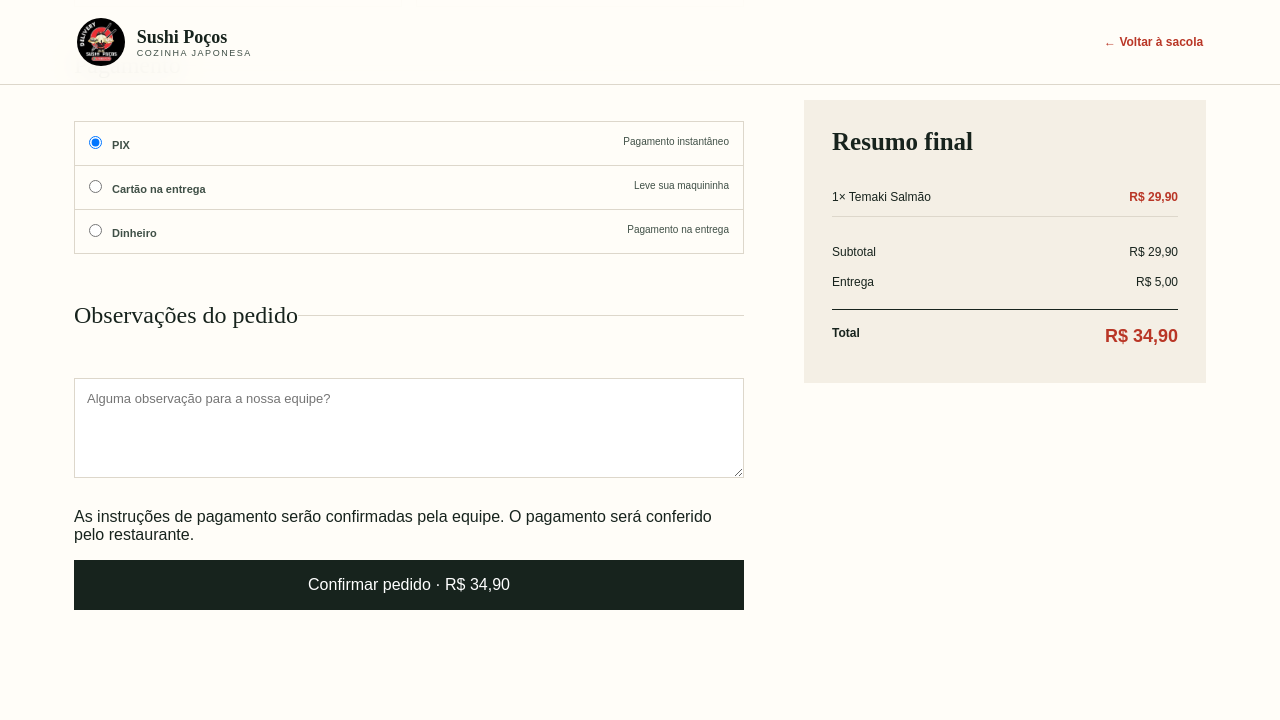
Scenario: CheckoutPage › requires customer and delivery information
(page scrolled)
Click the button "Confirmar pedido · R$ 34,90": (409, 584) [74,560,744,610]
(page scrolled)
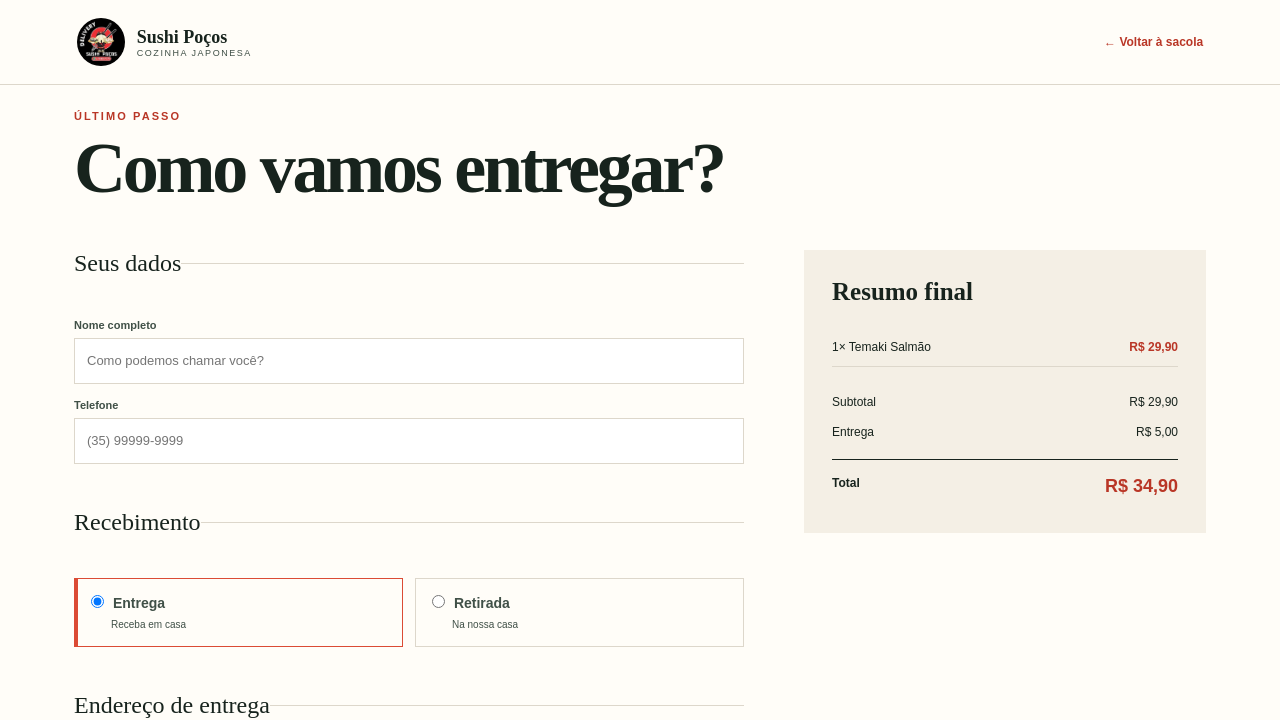
In the field labelled "Nome completo": (409, 360) [74,338,744,384], type "Ana Sushi"
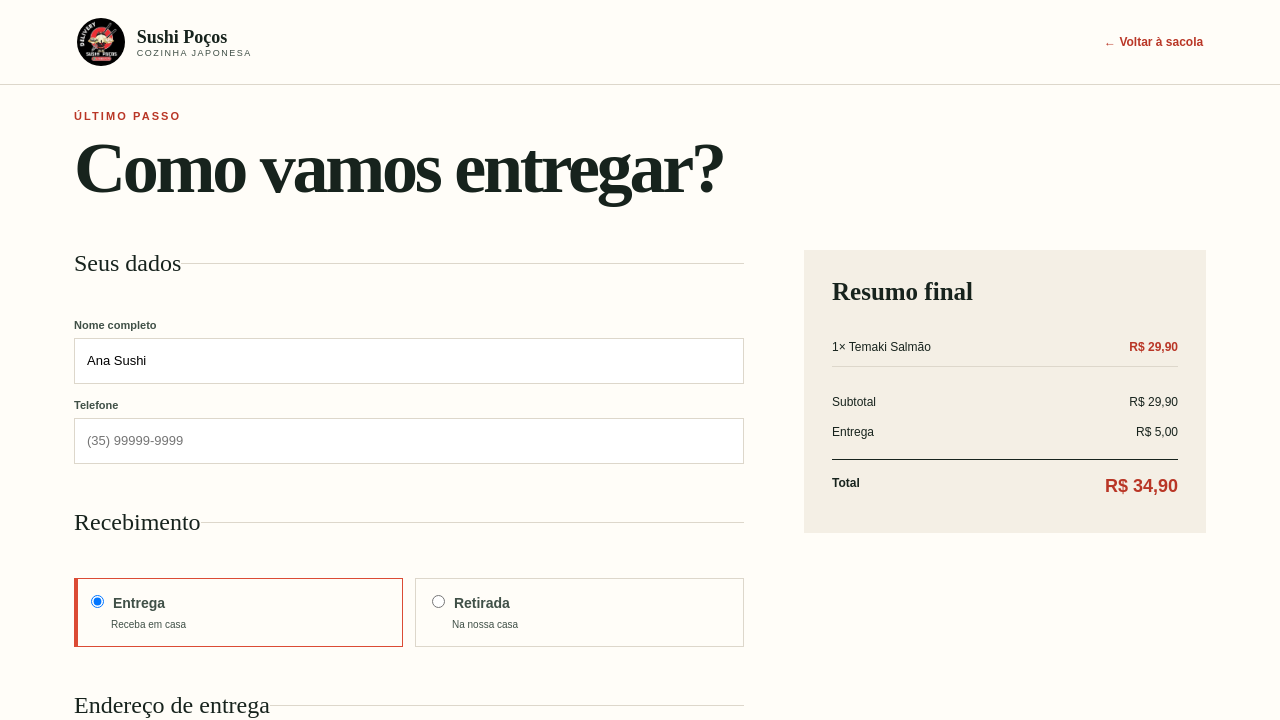
In the field labelled "Telefone": (409, 440) [74,418,744,464], type "35999999999"
(page scrolled)
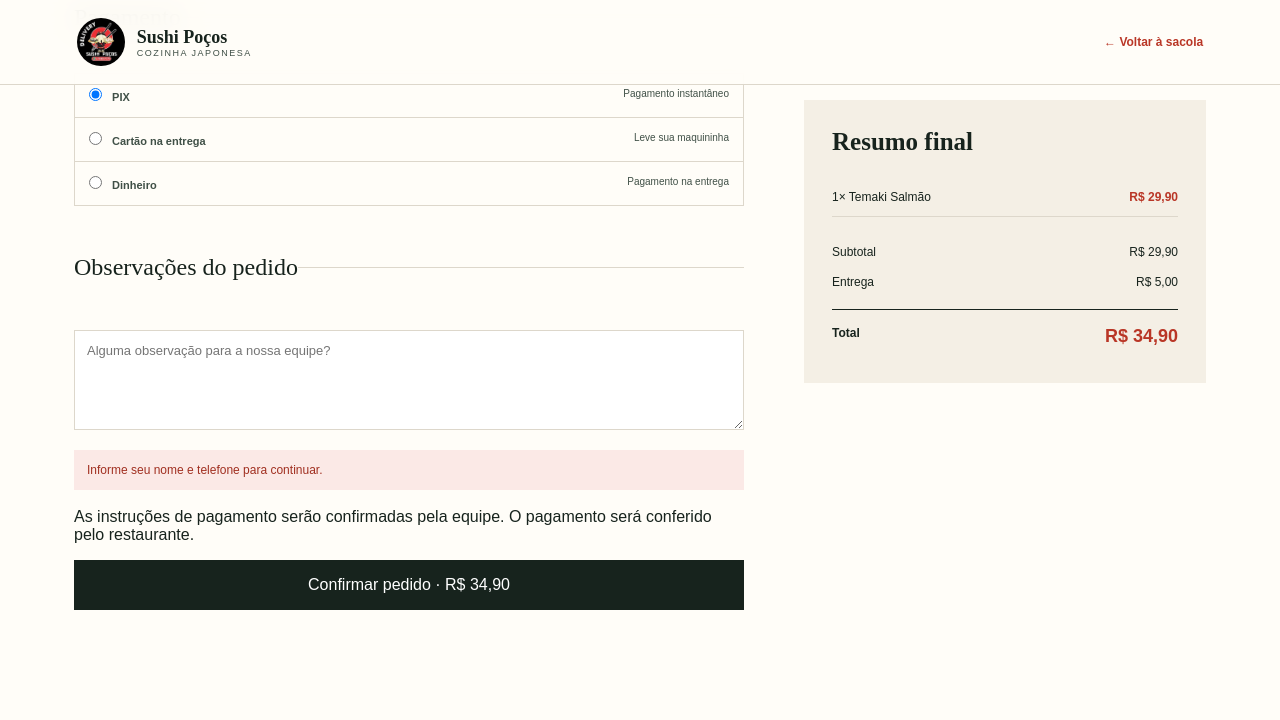
Click the button "Confirmar pedido · R$ 34,90": (409, 584) [74,560,744,610]
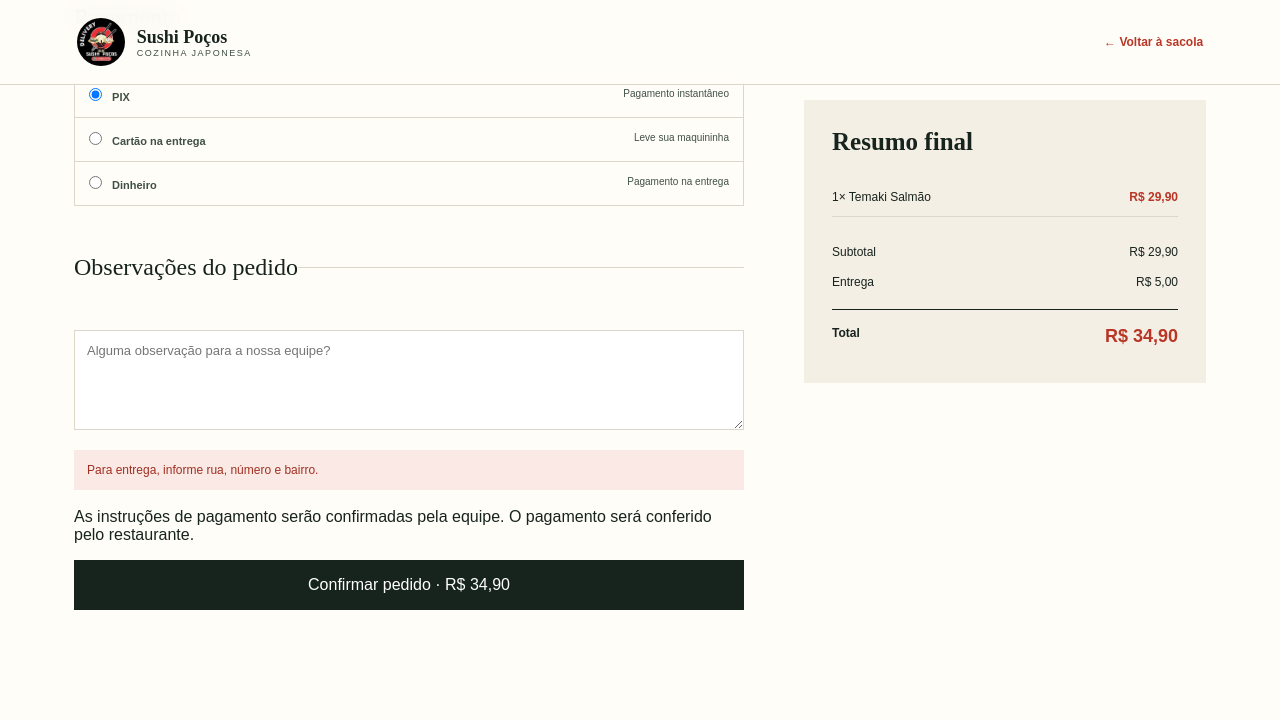
Expected: the message shows "rua, número e bairro", [87,462,318,476]
